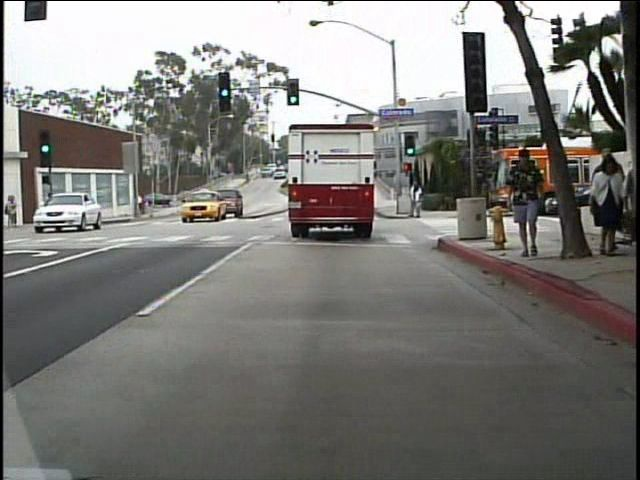person: (515, 142, 558, 264), (586, 153, 623, 252), (4, 191, 31, 238), (403, 176, 428, 222), (43, 189, 58, 228), (133, 187, 150, 220)
